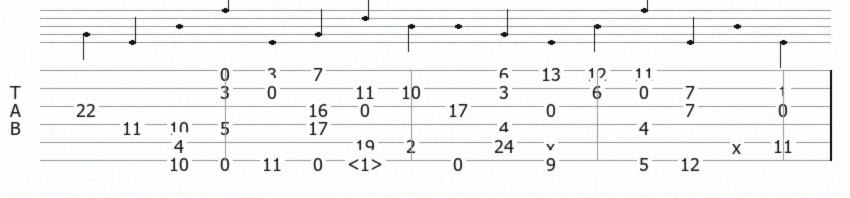0: (220, 62, 234, 79), (220, 152, 234, 169), (267, 80, 281, 97), (313, 152, 327, 169), (360, 98, 374, 115), (453, 152, 467, 169), (546, 98, 560, 115), (639, 80, 653, 97), (778, 98, 792, 115)
1: (778, 80, 792, 97)
10: (169, 116, 193, 133), (169, 152, 193, 169), (401, 80, 425, 97)
11: (122, 116, 146, 133), (262, 152, 286, 169), (355, 80, 379, 97), (634, 62, 658, 79), (773, 134, 797, 151)
12: (587, 62, 611, 79), (680, 152, 704, 169)
13: (541, 62, 565, 79)
16: (308, 98, 332, 115)
17: (308, 116, 332, 133), (448, 98, 472, 115)
19: (355, 134, 379, 151)
2: (406, 134, 420, 151)
22: (76, 98, 100, 115)
24: (494, 134, 518, 151)
3: (220, 80, 234, 97), (267, 62, 281, 79), (499, 80, 513, 97)
4: (174, 134, 188, 151), (499, 116, 513, 133), (639, 116, 653, 133)
5: (220, 116, 234, 133), (639, 152, 653, 169)
6: (499, 62, 513, 79), (592, 80, 606, 97)
7: (313, 62, 327, 79), (685, 98, 699, 115), (685, 80, 699, 97)
9: (546, 152, 560, 169)
harmonic: (347, 152, 387, 169)
x: (546, 135, 559, 149), (732, 135, 745, 149)
